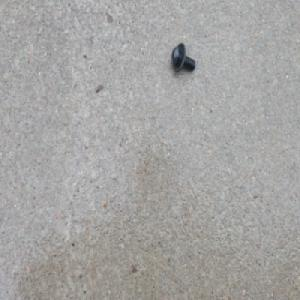BoltWasher: (169, 40, 194, 72)
